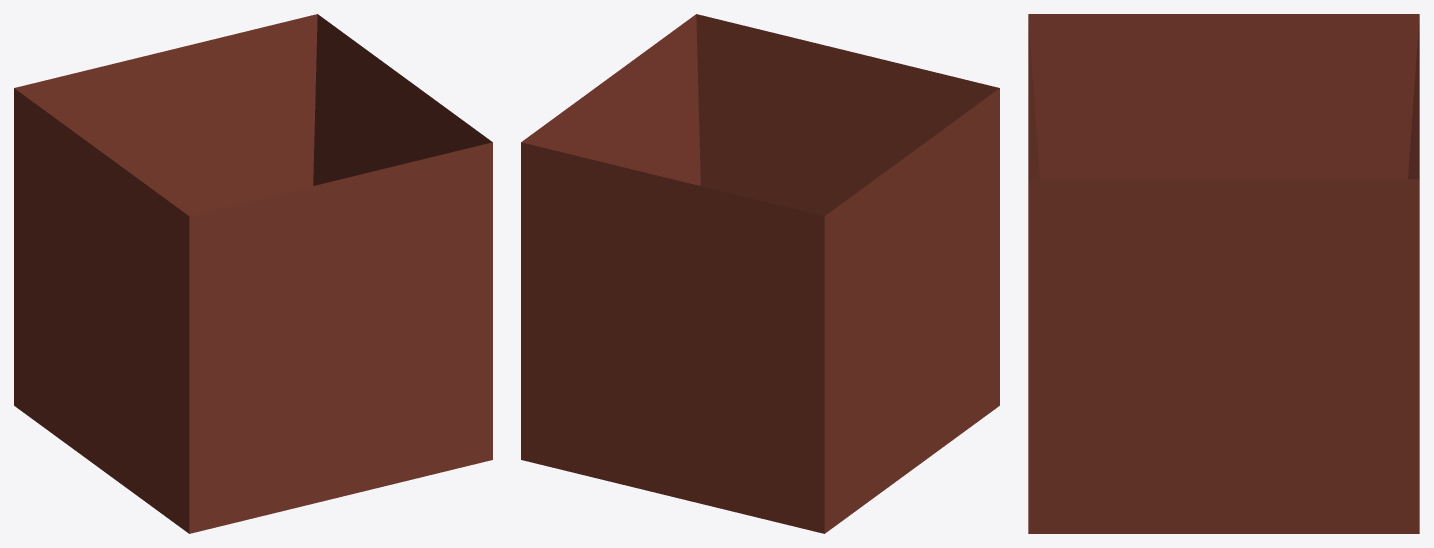
File: prop_crate_justin.fbx
3 renders of one model, left to right at view 1: azimuth 30°, elevation 25°; view 2: azimuth 150°, elevation 25°; view 3: azimuth 270°, elevation 25°, orthographic. The views are drawn at different scales.
Parts seen in each view (by area): view 1: prop_crate_justin; view 2: prop_crate_justin; view 3: prop_crate_justin.
Part boxes in pixels (x1,y1,x2,y2): prop_crate_justin: [14, 14, 492, 533]; prop_crate_justin: [521, 14, 999, 533]; prop_crate_justin: [1028, 14, 1419, 533].
Bounding box in the file's own units: 1 × 1 × 1.
